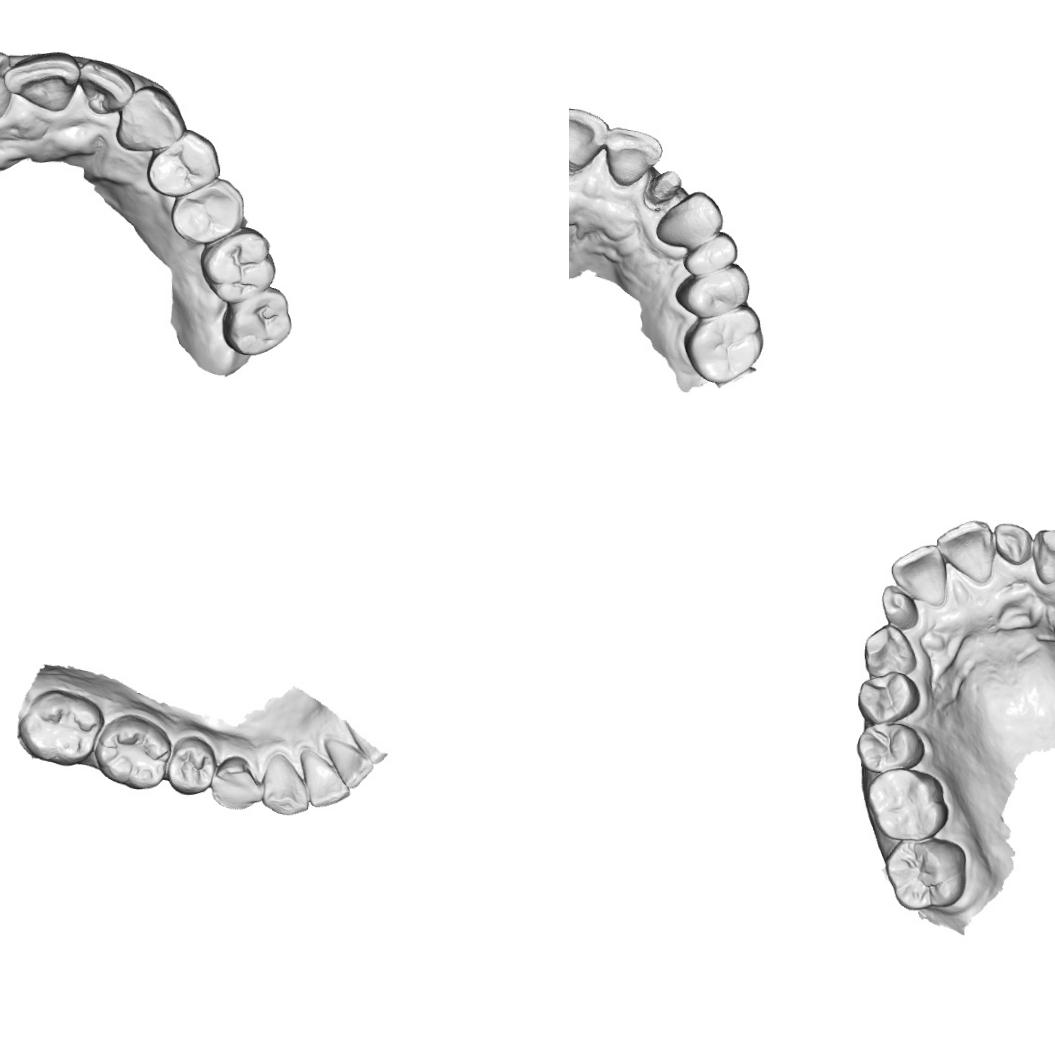canine: (114, 83, 188, 154), (260, 751, 312, 817), (860, 622, 918, 679), (1030, 526, 1055, 586)
crown: (644, 166, 686, 210)
incisor: (2, 51, 80, 116), (601, 124, 664, 190), (934, 517, 996, 584), (889, 541, 948, 608), (74, 58, 134, 115), (298, 746, 352, 808), (569, 105, 611, 174), (992, 521, 1037, 567), (880, 584, 920, 630), (335, 750, 374, 790)
molar: (680, 300, 766, 387), (14, 688, 105, 768), (194, 225, 278, 306), (863, 766, 951, 842), (882, 837, 967, 914), (92, 713, 173, 792), (219, 286, 294, 358), (672, 262, 752, 321)
premolar: (169, 174, 247, 246), (147, 128, 220, 198), (651, 187, 726, 251), (854, 668, 922, 726), (854, 721, 928, 774), (165, 734, 218, 796), (208, 754, 262, 811), (681, 228, 740, 280)
